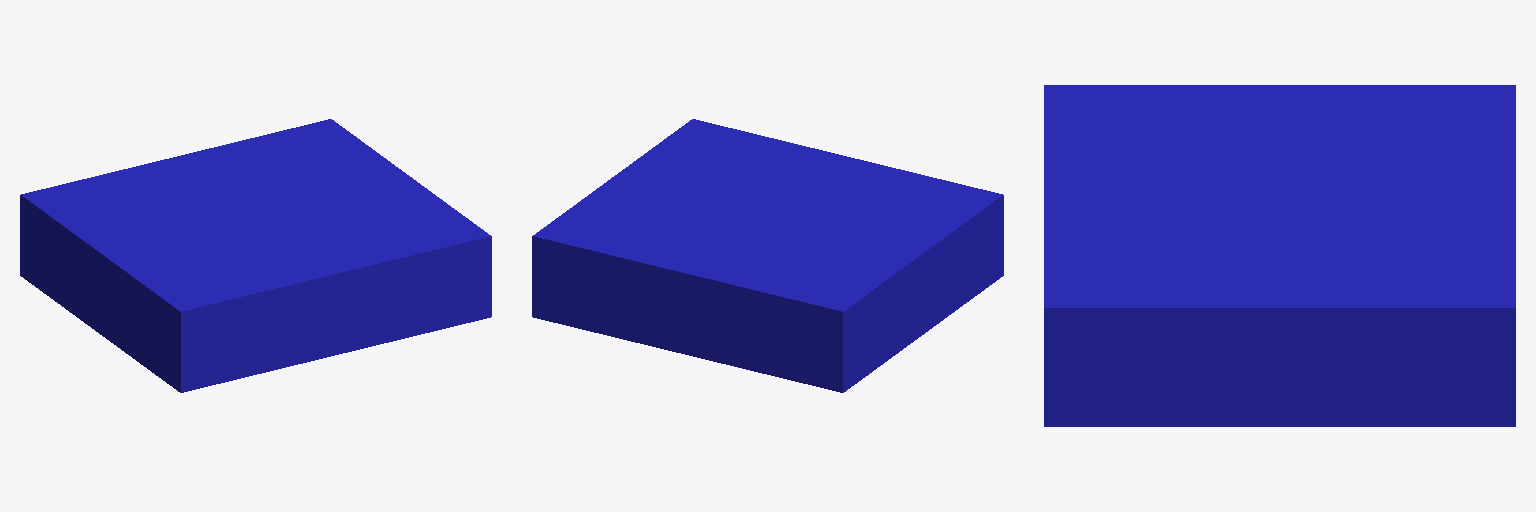
URDF robot description (simple_robot):
<?xml version="1.0"?>
<robot name="simple_robot">

  <!-- ====================== BASE LINK ====================== -->
  <link name="base_link">
    <inertial>
      <mass value="3"/>
      <inertia ixx="0.0186" ixy="0" ixz="0" iyy="0.0228" iyz="0" izz="0.0391"/>
    </inertial>
    <visual>
      <geometry>
        <box size="0.28 0.25 0.07"/>
      </geometry>
      <material name="blue">
        <color rgba="0.2 0.2 0.8 1"/>
      </material>
    </visual>
    <collision>
      <geometry>
        <box size="0.28 0.25 0.07"/>
      </geometry>
    </collision>
  </link>

  <link name="base_footprint"/>
  <joint name="base_to_footprint" type="fixed">
    <parent link="base_link"/>
    <child link="base_footprint"/>
  </joint>

  <!-- ====================== WHEELS ====================== -->
  <link name="left_wheel">
    <inertial>
      <mass value="0.3"/>
      <inertia ixx="0.00024" ixy="0" ixz="0" iyy="0.00024" iyz="0" izz="0.00048"/>
    </inertial>
  </link>
  <link name="right_wheel">
    <inertial>
      <mass value="0.3"/>
      <inertia ixx="0.00024" ixy="0" ixz="0" iyy="0.00024" iyz="0" izz="0.00048"/>
    </inertial>
  </link>

  <joint name="left_wheel_joint" type="revolute">
  <parent link="base_link"/>
  <child link="left_wheel"/>
  <axis xyz="0 0 1"/>
  <limit lower="-10000000000000000" upper="10000000000000000" effort="10" velocity="10"/>
</joint>

<joint name="right_wheel_joint" type="revolute">
  <parent link="base_link"/>
  <child link="right_wheel"/>
  <axis xyz="0 0 1"/>
  <limit lower="-10000000000000000" upper="10000000000000000" effort="10" velocity="10"/>
</joint>

  <!-- ====================== CASTER ====================== -->
  <link name="caster"/>
  <joint name="caster_joint" type="fixed">
    <parent link="base_link"/>
    <child link="caster"/>
  </joint>

  <!-- ====================== GRIPPER ====================== -->
  <link name="gripper_base"/>
  <joint name="gripper_base_joint" type="fixed">
    <parent link="base_link"/>
    <child link="gripper_base"/>
  </joint>

  <link name="left_finger"/>
  <joint name="left_finger_joint" type="prismatic">
    <parent link="gripper_base"/>
    <child link="left_finger"/>
    <axis xyz="0 1 0"/>
    <limit lower="-0.03" upper="0.03" effort="40" velocity="0.05"/>
  </joint>

  <link name="right_finger"/>
  <joint name="right_finger_joint" type="prismatic">
    <parent link="gripper_base"/>
    <child link="right_finger"/>
    <axis xyz="0 -1 0"/>
    <limit lower="-0.03" upper="0.03" effort="40" velocity="0.05"/>
  </joint>

  <!-- ====================== LIDAR & CAMERA ====================== -->
  <link name="lidar_link"/>
  <joint name="lidar_joint" type="fixed">
    <parent link="base_link"/>
    <child link="lidar_link"/>
  </joint>

  <link name="camera_link"/>
  <joint name="camera_joint" type="fixed">
    <parent link="base_link"/>
    <child link="camera_link"/>
  </joint>

  <!-- ====================== ROS2 CONTROL ====================== -->
  <ros2_control name="GripperSystem" type="system">
    <hardware>
      <plugin>ign_ros2_control/IgnitionSystem</plugin>
    </hardware>
    <joint name="left_finger_joint">
      <command_interface name="position">
        <param name="min">-0.03</param>
        <param name="max">0.03</param>
      </command_interface>
      <state_interface name="position"/>
      <state_interface name="velocity"/>
      <state_interface name="effort"/>
    </joint>
    <joint name="right_finger_joint">
      <command_interface name="position">
        <param name="min">-0.03</param>
        <param name="max">0.03</param>
      </command_interface>
      <state_interface name="position"/>
      <state_interface name="velocity"/>
      <state_interface name="effort"/>
    </joint>
  </ros2_control>

</robot>

--- Facts derived from the render (not from the file) ---
3 views of the same robot in one strip: view 1: azimuth 30°, elevation 25°; view 2: azimuth 150°, elevation 25°; view 3: azimuth 270°, elevation 25° (orthographic).
Robot: simple_robot — 10 links, 9 joints (2 revolute, 2 prismatic, 5 fixed); root link base_link; default pose: all joints at 0.
Links seen in each view (by area): view 1: base_link; view 2: base_link; view 3: base_link.
Link boxes in pixels (<box>): base_link: <box>20,119,491,392</box>; base_link: <box>532,119,1003,392</box>; base_link: <box>1044,85,1515,426</box>.
Bounding box of the posed robot: 0.28 × 0.25 × 0.07 m (x, y, z).
Geometry: primitives only (box / cylinder / sphere), no mesh files.